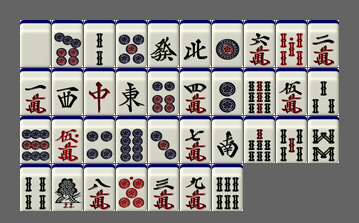0m: (52, 116, 83, 163)
0p: (116, 164, 147, 211)
0s: (276, 20, 307, 67)
1m: (20, 68, 51, 115)
1p: (212, 20, 243, 67)
1s: (52, 164, 83, 211)
1z: (116, 68, 147, 115)
2m: (308, 20, 339, 67)
2p: (212, 68, 243, 115)
2s: (84, 20, 115, 67)
2z: (212, 116, 243, 163)
3m: (148, 164, 179, 211)
3p: (148, 116, 179, 163)
3s: (308, 68, 339, 115)
3z: (52, 68, 83, 115)
4m: (180, 68, 211, 115)
4p: (84, 116, 115, 163)
4s: (20, 164, 51, 211)
4z: (180, 20, 211, 67)
5m: (276, 68, 307, 115)
5p: (116, 20, 147, 67)
5s: (276, 116, 307, 163)
5z: (20, 20, 51, 67)
6m: (244, 20, 275, 67)
6p: (148, 68, 179, 115)
6s: (212, 164, 243, 211)
6z: (148, 20, 179, 67)
7m: (180, 116, 211, 163)
7p: (52, 20, 83, 67)
7s: (244, 116, 275, 163)
7z: (84, 68, 115, 115)
8m: (84, 164, 115, 211)
8p: (116, 116, 147, 163)
8s: (308, 116, 339, 163)
9m: (180, 164, 211, 211)
9p: (20, 116, 51, 163)
9s: (244, 68, 275, 115)
